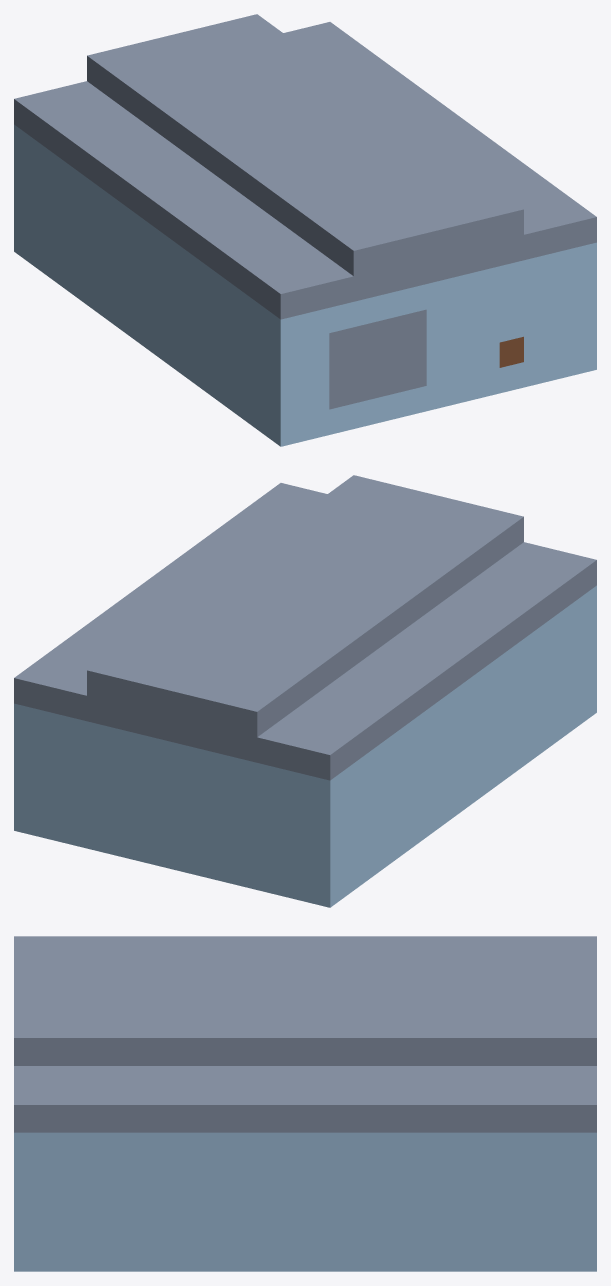
File: warehouse.glb
3 views of the same model, one above another, from view 1: azimuth 30°, elevation 25°; view 2: azimuth 150°, elevation 25°; view 3: azimuth 270°, elevation 25° (orthographic). The views are drawn at different scales.
Visible parts, largest first — view 1: warehouse_metal, warehouse_wall_blue, warehouse_door; view 2: warehouse_metal, warehouse_wall_blue; view 3: warehouse_metal, warehouse_wall_blue.
Part boxes in pixels (left/top/right/bottom): warehouse_metal: left=14, top=14, right=596, bottom=409; warehouse_wall_blue: left=14, top=124, right=596, bottom=446; warehouse_door: left=499, top=336, right=523, bottom=367; warehouse_metal: left=14, top=475, right=596, bottom=780; warehouse_wall_blue: left=14, top=585, right=596, bottom=907; warehouse_metal: left=14, top=936, right=596, bottom=1132; warehouse_wall_blue: left=14, top=1132, right=596, bottom=1271.
Size of the model in its own units: 22.1 by 11.9 by 32.3.
